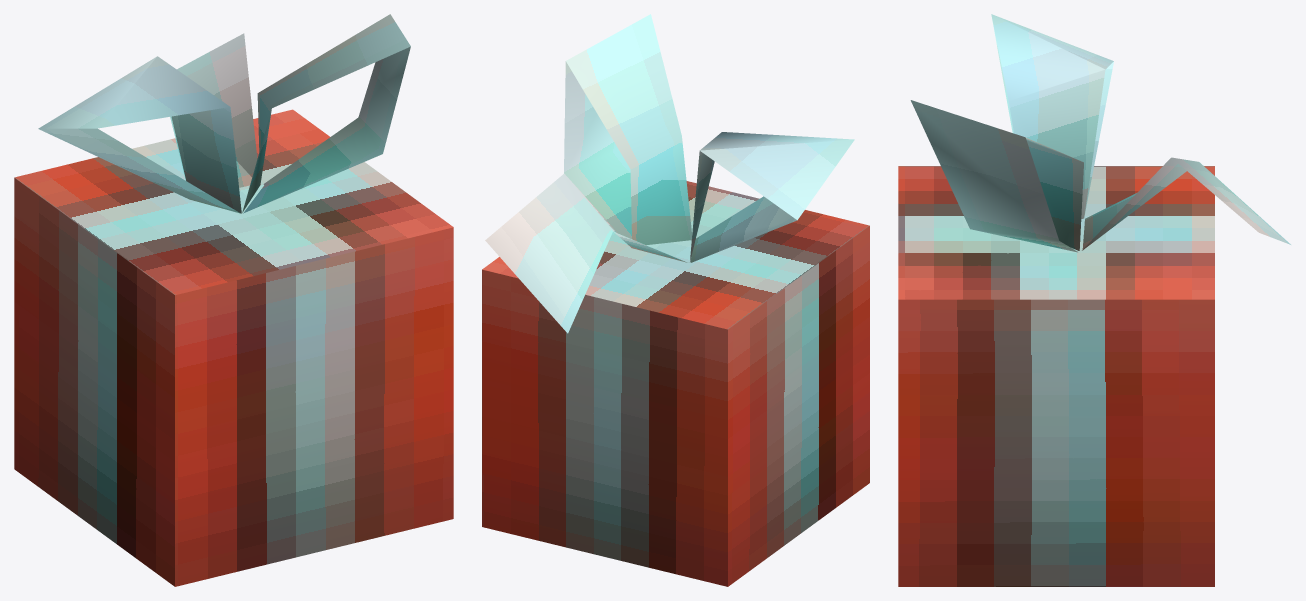
The model's file is qbox.glb.
3 views of the same model, side by side, from view 1: azimuth 30°, elevation 25°; view 2: azimuth 150°, elevation 25°; view 3: azimuth 270°, elevation 25° (orthographic). The views are drawn at different scales.
Parts seen in each view (by area): view 1: GiftBox, Bow; view 2: GiftBox, Bow; view 3: GiftBox, Bow.
Boxes of the visible parts, left/top/right/bottom form: GiftBox: left=14, top=109, right=453, bottom=586; Bow: left=38, top=14, right=410, bottom=213; GiftBox: left=482, top=181, right=869, bottom=586; Bow: left=485, top=14, right=854, bottom=333; GiftBox: left=898, top=166, right=1214, bottom=586; Bow: left=910, top=14, right=1290, bottom=252.
Bounding box in the file's own units: 1.1 × 1.61 × 1.22.
2 materials, 2 textured.
